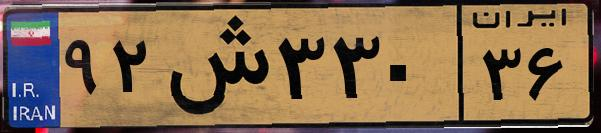0: (385, 28, 445, 110)
2: (110, 28, 158, 98)
3: (270, 28, 330, 110), (330, 28, 385, 110), (475, 38, 525, 113)
6: (525, 38, 570, 115)
9: (57, 26, 110, 100)
ش: (158, 12, 270, 120)
